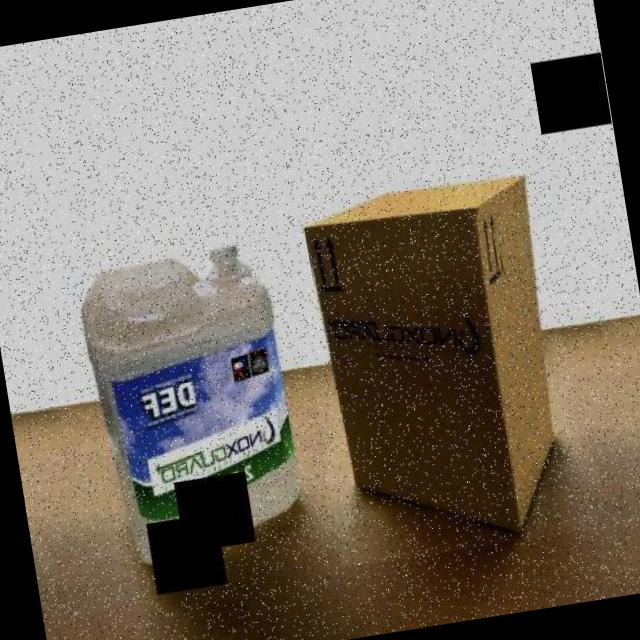box: (280, 138, 593, 568)
